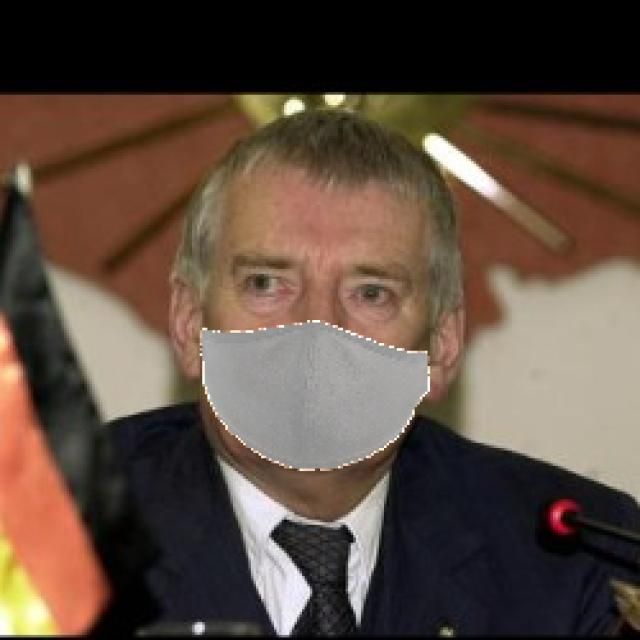mask: (188, 324, 448, 483)
